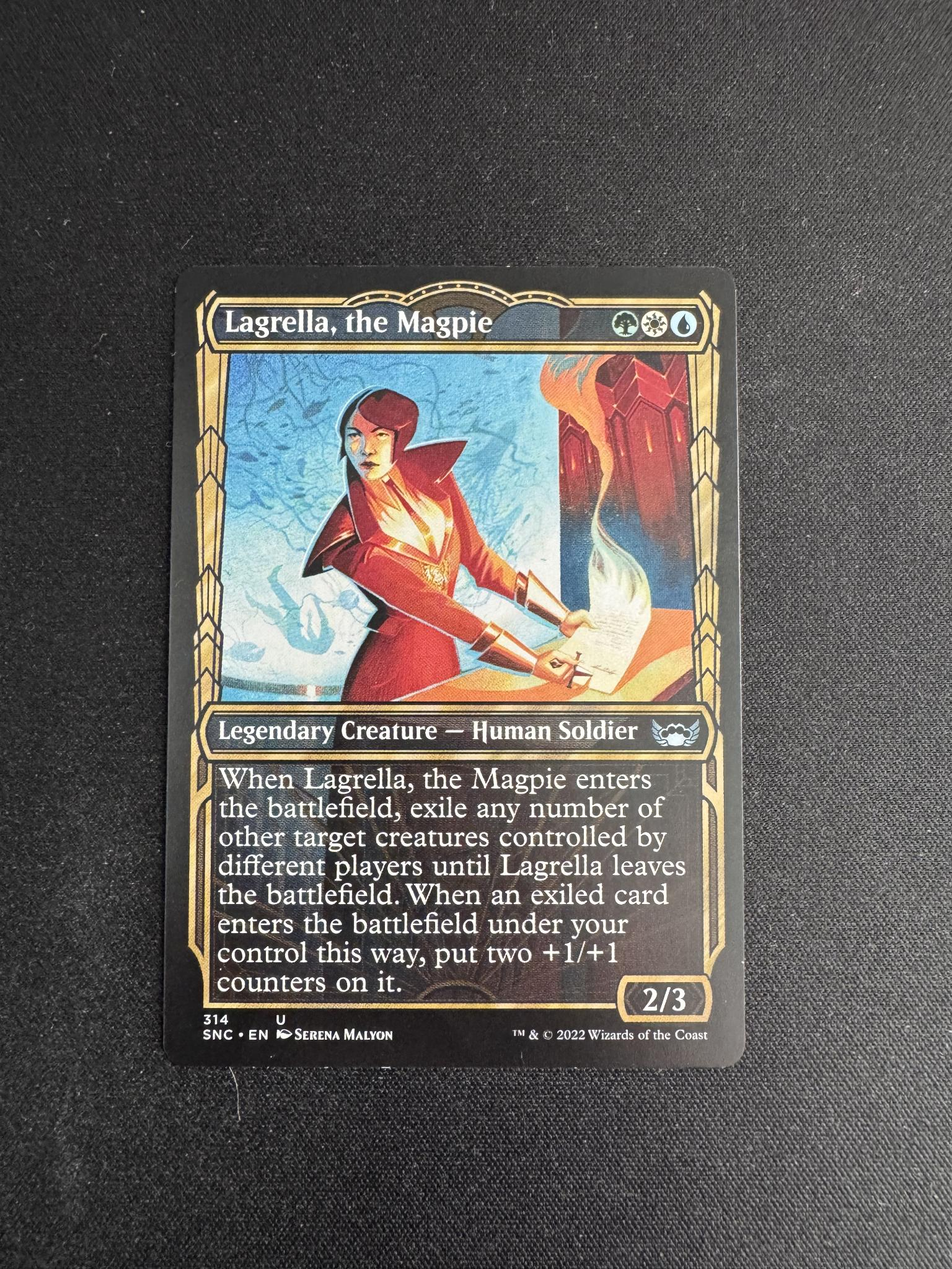card-2UtV: (163, 265, 746, 1068)
